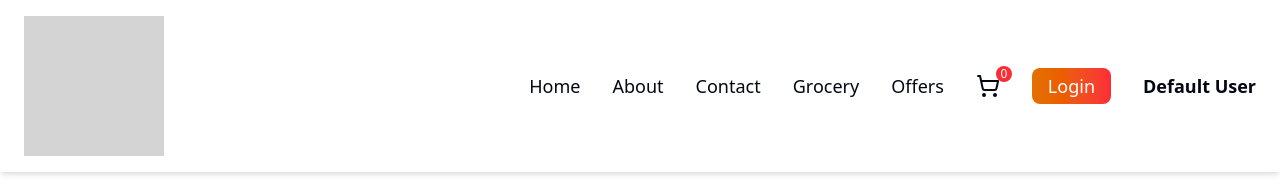
Header Component Tests › should toggle Login → Logout on click
Step 1. Click the button "Login" → coordinates (1072, 86), box [1032,68,1111,104]
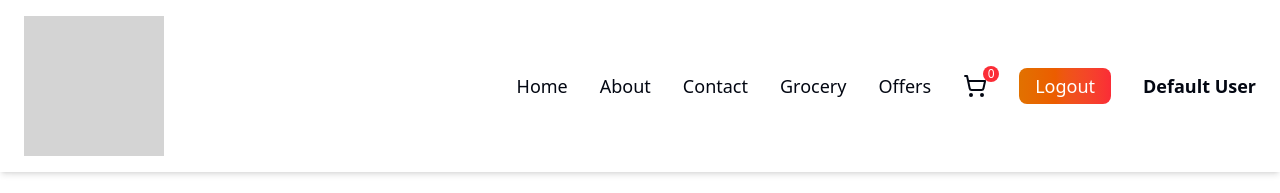
Now the button "Logout" is shown
Step 2. Click the button "Logout" → coordinates (1065, 86), box [1019,68,1111,104]
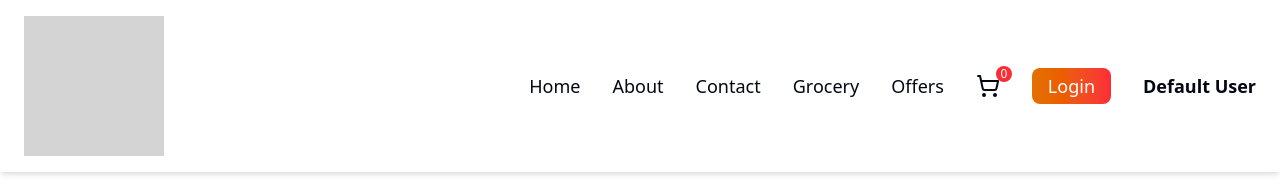
Now the button "Login" is shown, box [1032,68,1111,104]
